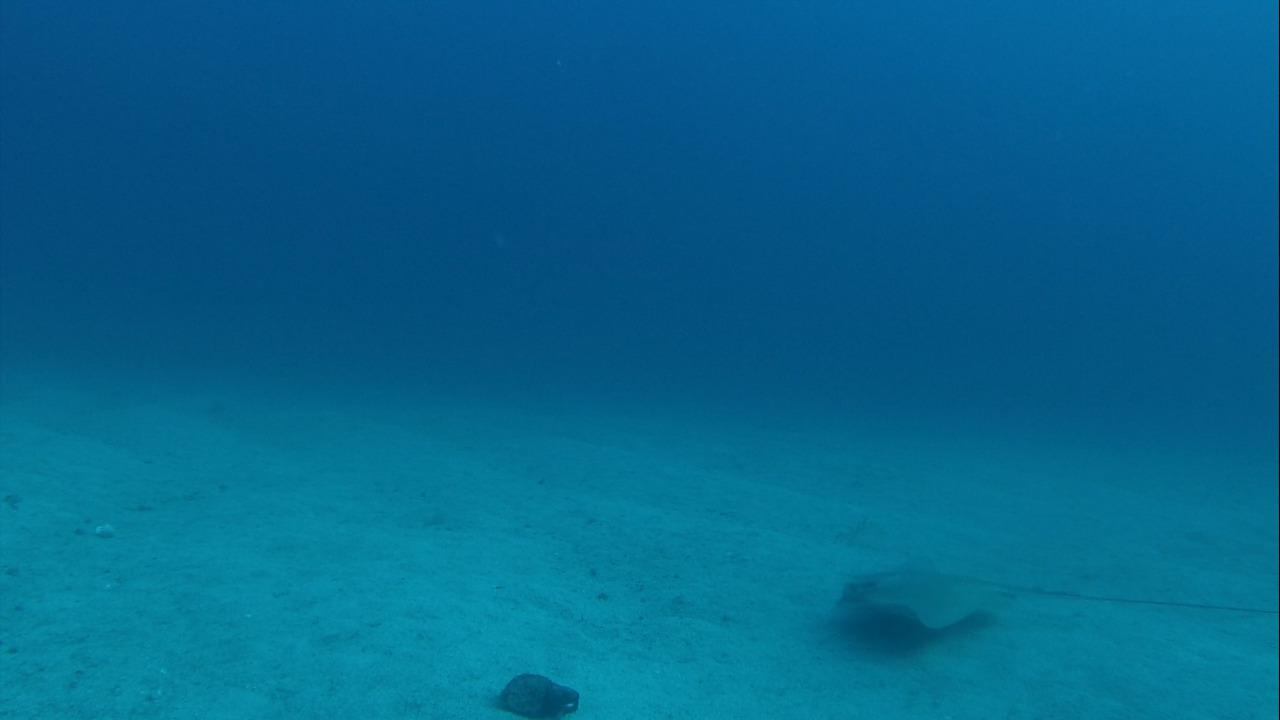myliobatis: (825, 551, 1272, 646)
